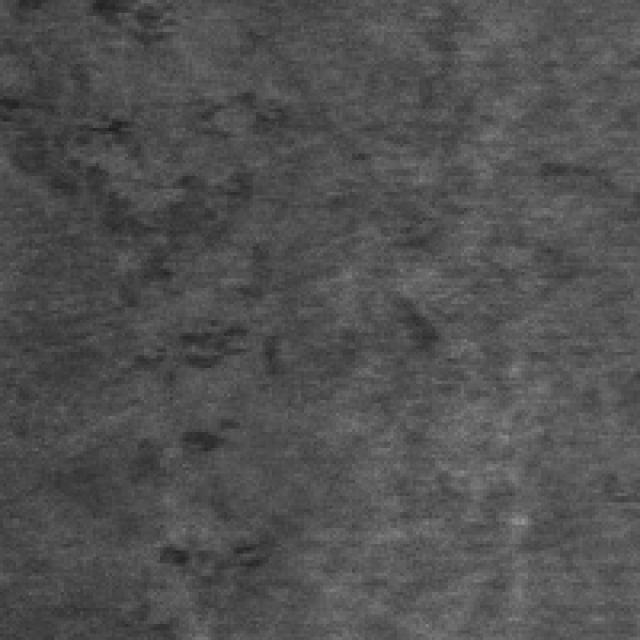rolled-in_scale: (28, 77, 250, 342), (131, 314, 282, 582), (77, 0, 182, 51)
